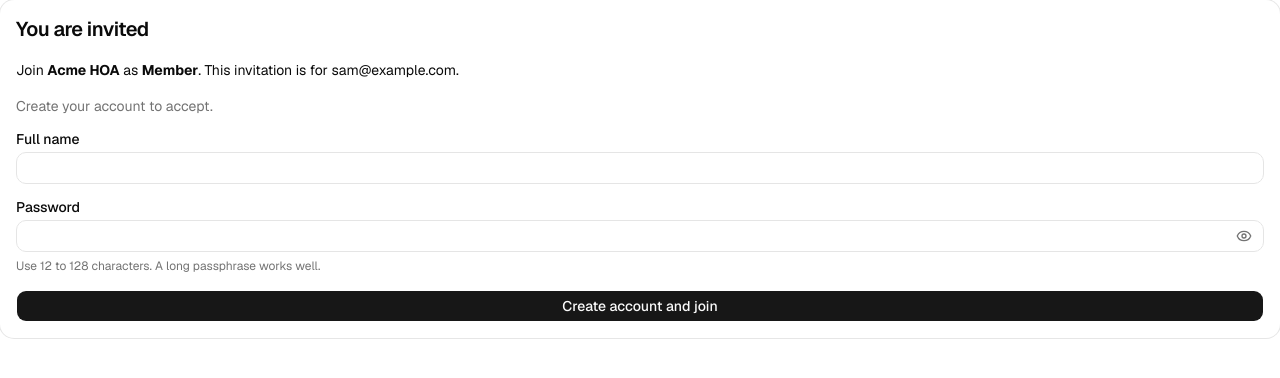
Scenario: InviteFlow › maps 400 field errors from the server onto fullName / password
The width and height of the screenshot is (1280, 378).
Step 1. Type "Sam" into the field labelled "Full name" → (640, 168), box [16,152,1264,184]
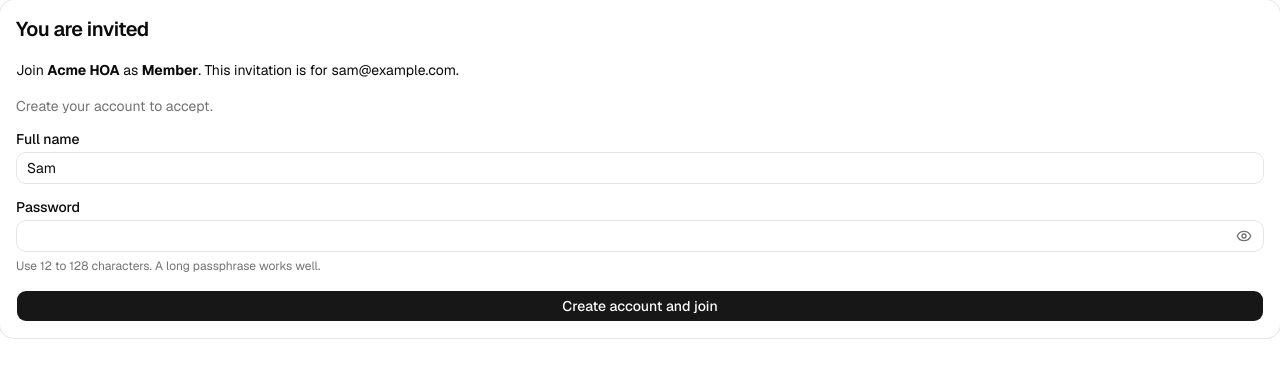
Step 2. Type "a-long-passphrase-123" into the password field labelled "Password" → (640, 236), box [16,220,1264,252]
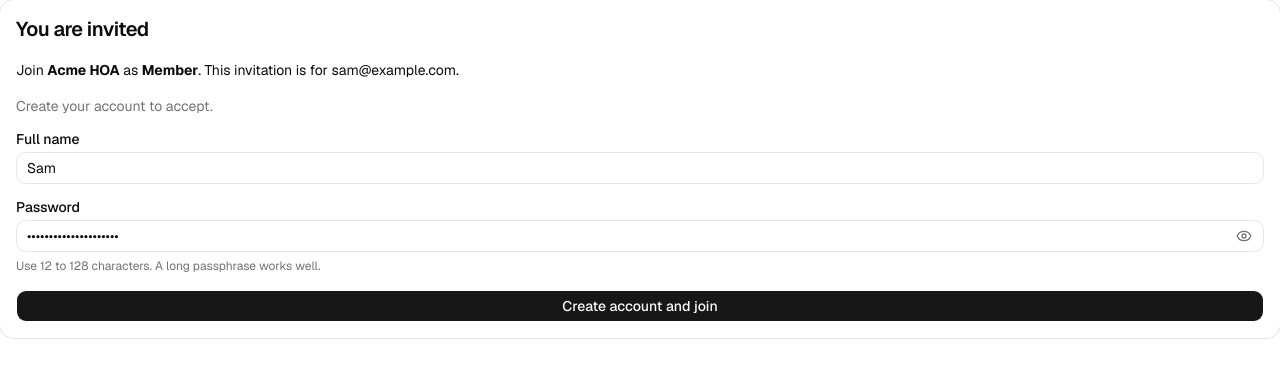
Step 3. Click the button "Create account and join" → click(640, 306), box [16,290,1264,322]
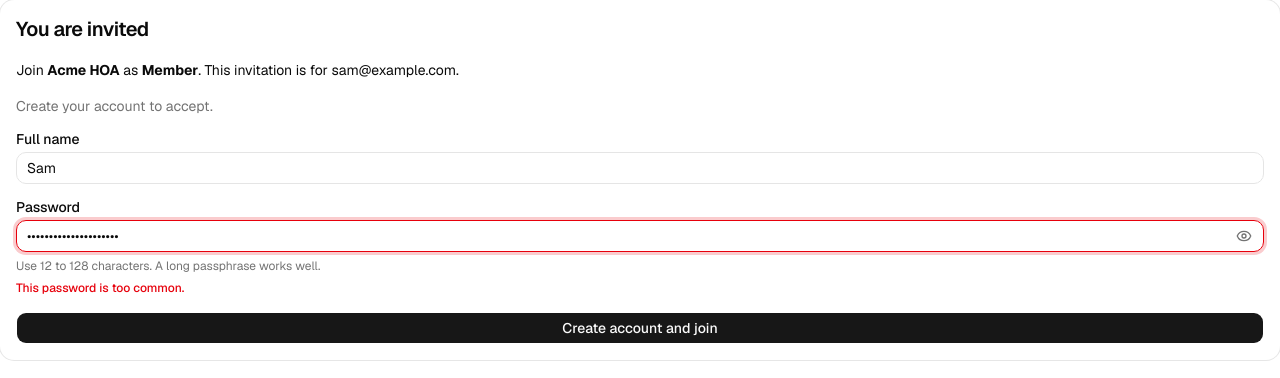
expect the text "This password is too common." is shown: met, box [16,280,184,296]
